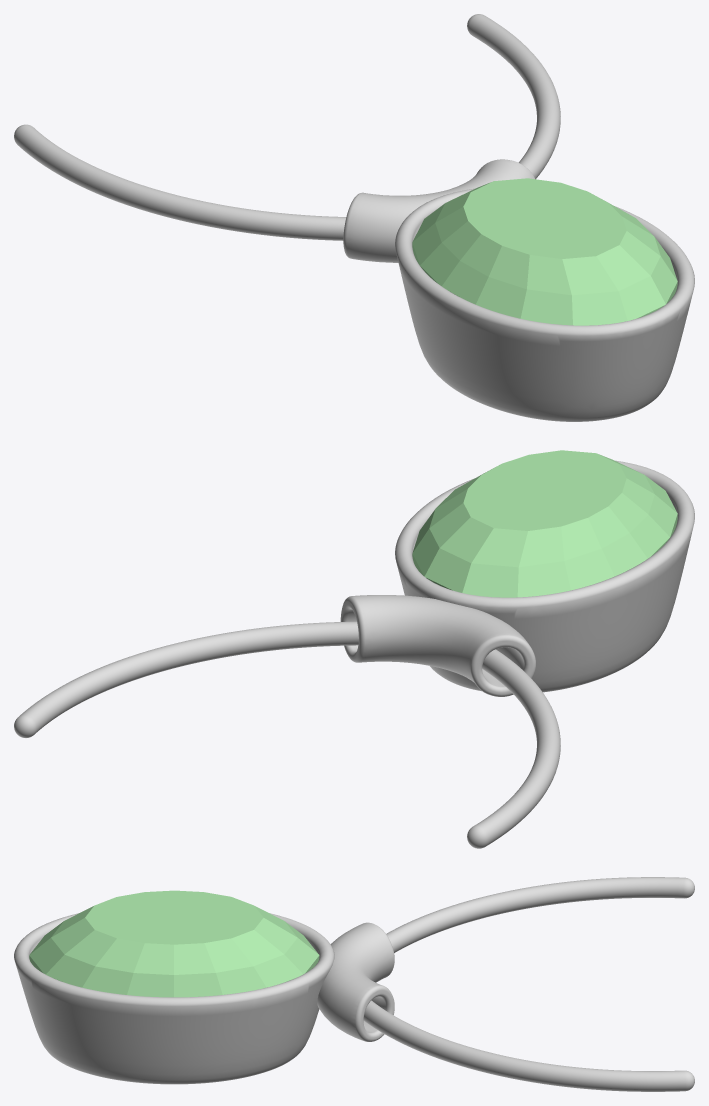
The model's file is DalePT.glb.
The picture shows the model from 3 angles, top to bottom: view 1: azimuth 30°, elevation 25°; view 2: azimuth 150°, elevation 25°; view 3: azimuth 270°, elevation 25°; orthographic projection. The views are drawn at different scales.
Visible parts, largest first — view 1: Dale PT no chain for 3d model, Dale green stone for 3d model; view 2: Dale PT no chain for 3d model, Dale green stone for 3d model; view 3: Dale PT no chain for 3d model, Dale green stone for 3d model.
Part boxes in pixels (x1,y1,x2,y2): Dale PT no chain for 3d model: (14, 14, 694, 421); Dale green stone for 3d model: (412, 178, 677, 325); Dale PT no chain for 3d model: (14, 460, 694, 848); Dale green stone for 3d model: (412, 450, 677, 597); Dale PT no chain for 3d model: (14, 877, 694, 1091); Dale green stone for 3d model: (29, 890, 319, 997).
Size of the model in its own units: 23.05 by 6.8 by 32.7.
